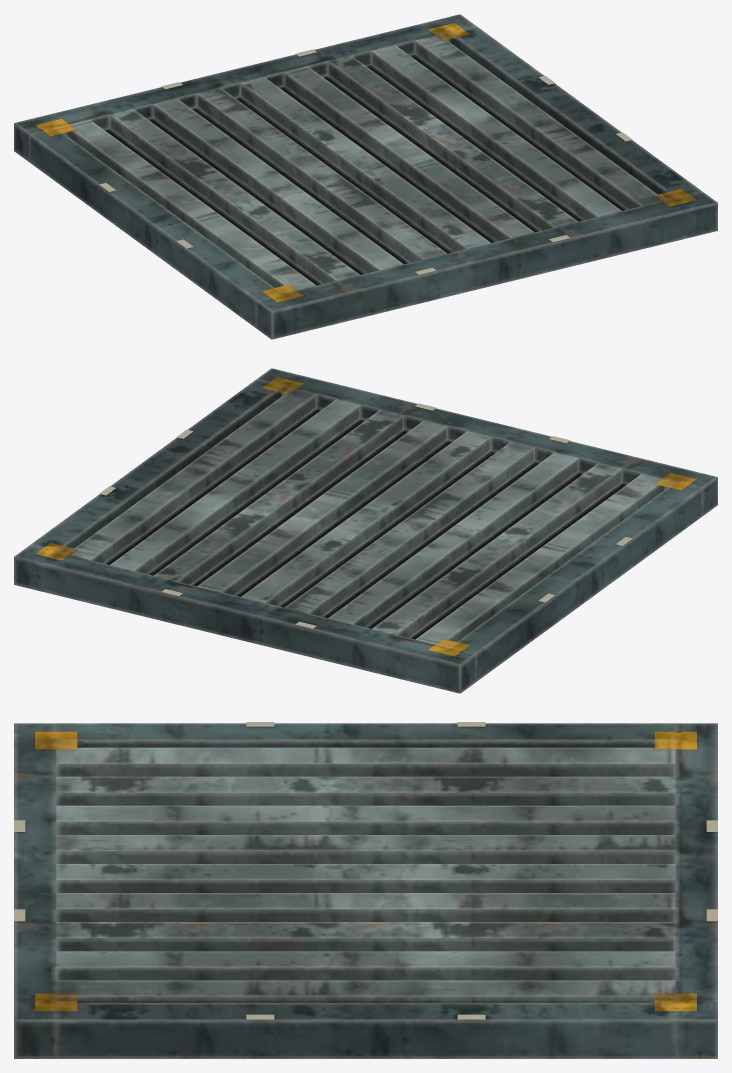
The model's file is hull_platform_outdoor.glb.
3 renders of one model, top to bottom at view 1: azimuth 30°, elevation 25°; view 2: azimuth 150°, elevation 25°; view 3: azimuth 270°, elevation 25°, orthographic. The views are drawn at different scales.
Visible parts, largest first — view 1: te_hull_platform_outdoor; view 2: te_hull_platform_outdoor; view 3: te_hull_platform_outdoor.
Boxes of the visible parts, <box> form: te_hull_platform_outdoor: <box>14,14,717,339</box>; te_hull_platform_outdoor: <box>14,368,717,693</box>; te_hull_platform_outdoor: <box>14,722,717,1058</box>.
Size of the model in its own units: 1 by 0.0618 by 1.
Materials: 1 (1 with a texture image).
